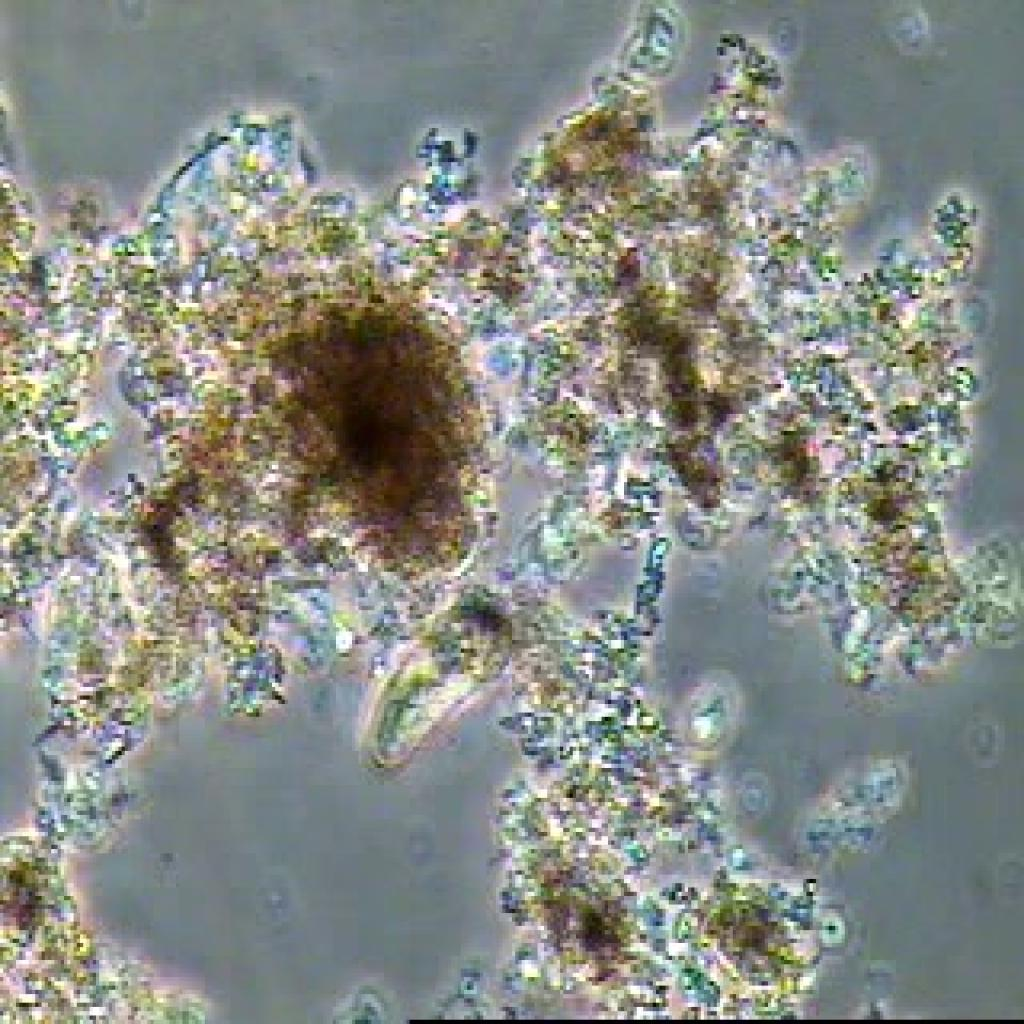Paramecium: (339, 598, 525, 776)
